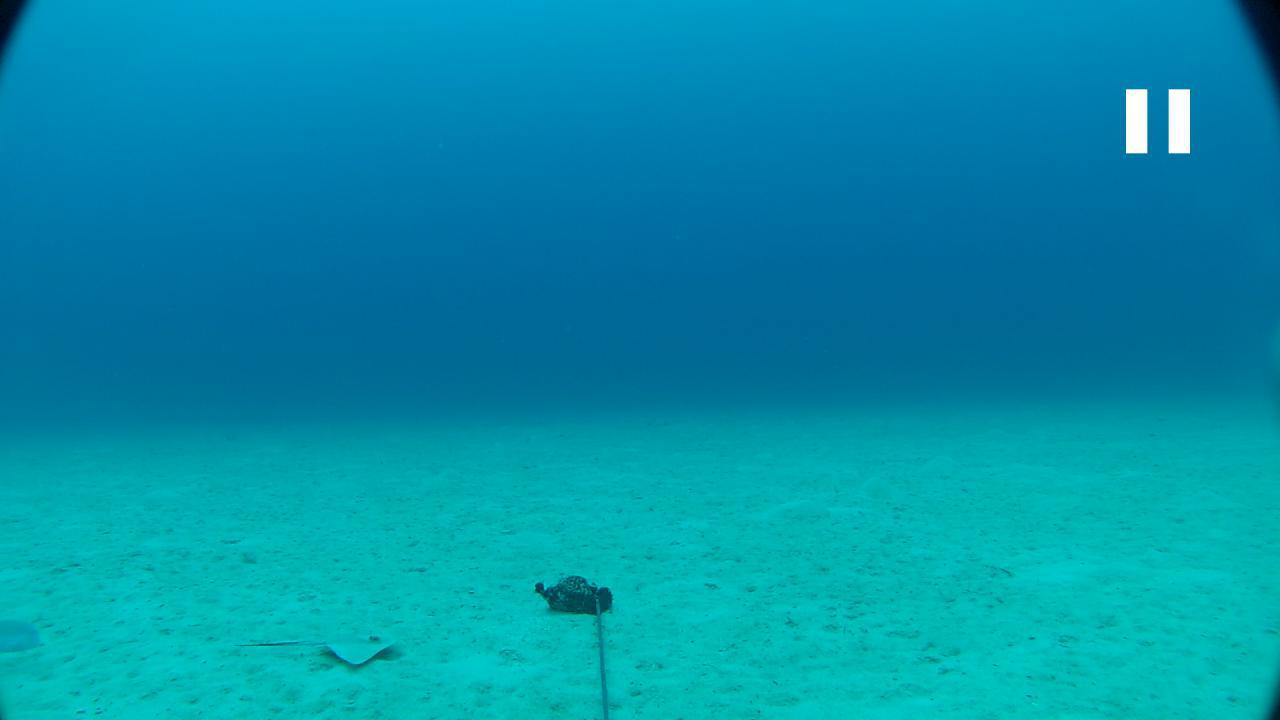dasyatis: (231, 628, 399, 666)
